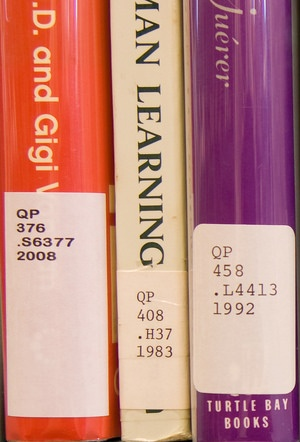call_number: (3, 192, 106, 419), (194, 225, 296, 395), (115, 269, 190, 412)
